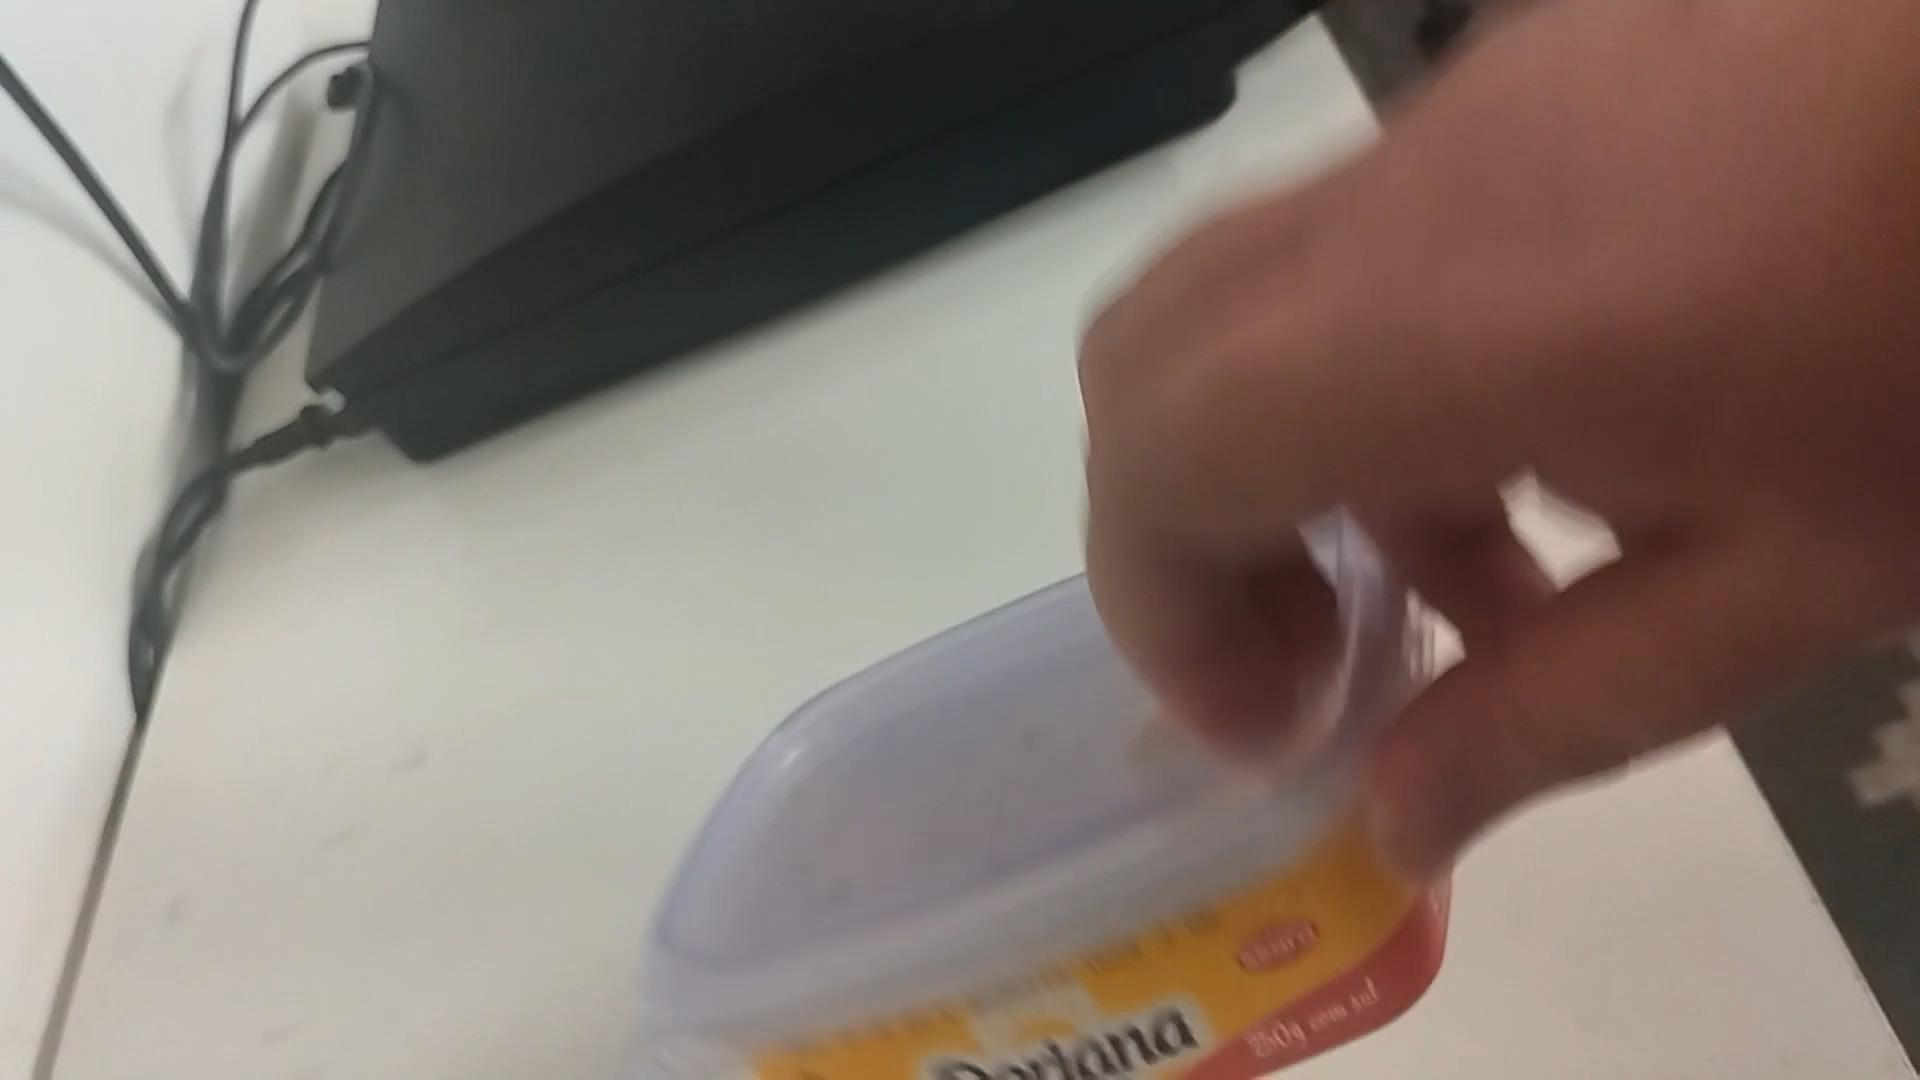butter: (622, 521, 1460, 1080)
